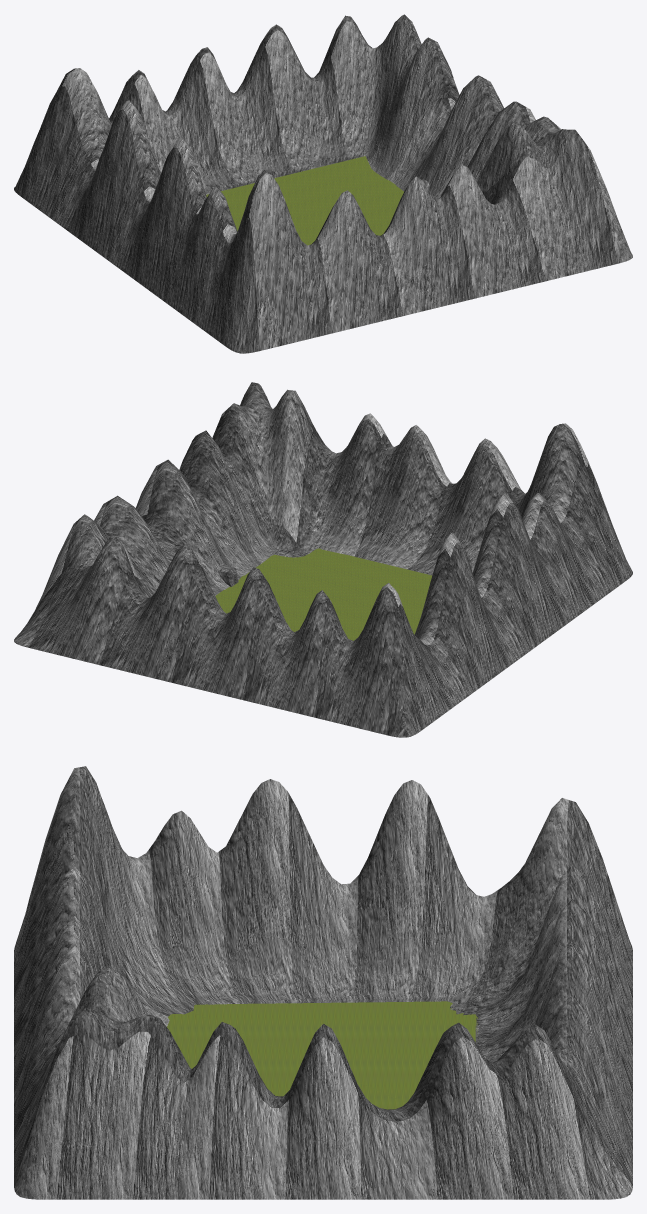
The model's file is first_map.fbx.
3 views of the same model, one above another, from view 1: azimuth 30°, elevation 25°; view 2: azimuth 150°, elevation 25°; view 3: azimuth 270°, elevation 25° (orthographic). The views are drawn at different scales.
Parts seen in each view (by area): view 1: Plane, Plane.001; view 2: Plane, Plane.001; view 3: Plane, Plane.001.
Part boxes in pixels (<box>): Plane: <box>14,14,632,353</box>; Plane.001: <box>206,156,403,245</box>; Plane: <box>14,382,632,737</box>; Plane.001: <box>215,548,431,640</box>; Plane: <box>14,766,632,1199</box>; Plane.001: <box>167,1001,477,1109</box>.
Bounding box in the file's own units: 2136 × 785 × 2136.
Materials: 5 (3 with a texture image).
